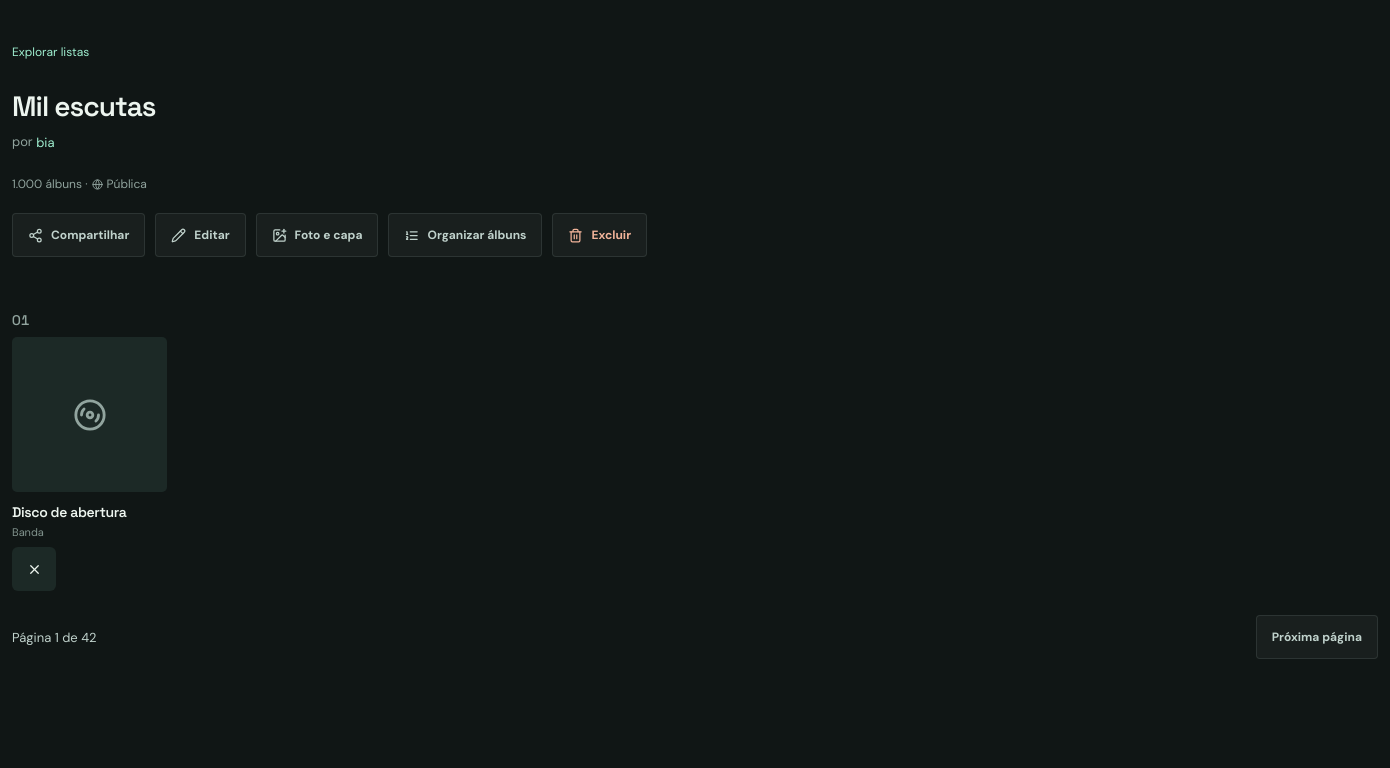
refreshes paged items and their global count after an owner removal
The width and height of the screenshot is (1390, 768).
Click the button named "Remover Disco de abertura da lista" at (34, 569), box left=12, top=547, right=56, bottom=591
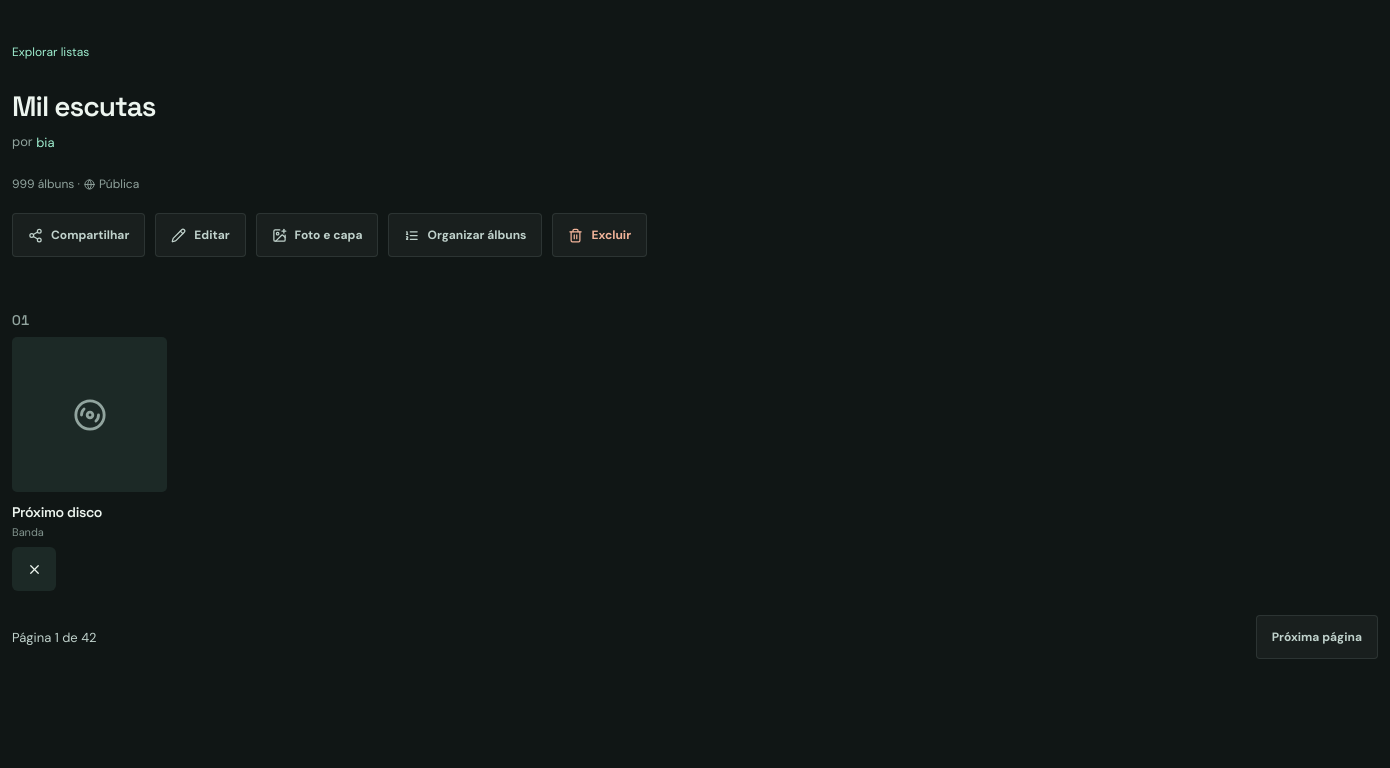
Check: the heading "Próximo disco" is shown, box left=12, top=503, right=102, bottom=521
Check: the text "999 álbuns" is shown, box left=12, top=176, right=74, bottom=192
